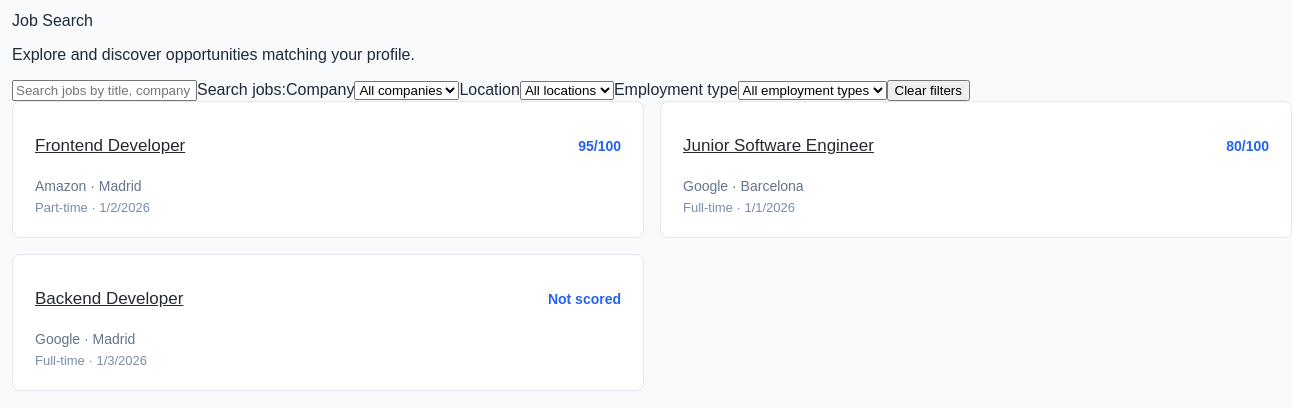
Test: JobSearch › filters jobs by location
The width and height of the screenshot is (1292, 408).
Expected: the link "Junior Software Engineer" is shown, [683,136,874,156]
Select "Barcelona" in the dropdown labelled "Location" at x=567, y=90, box [520,81,614,100]
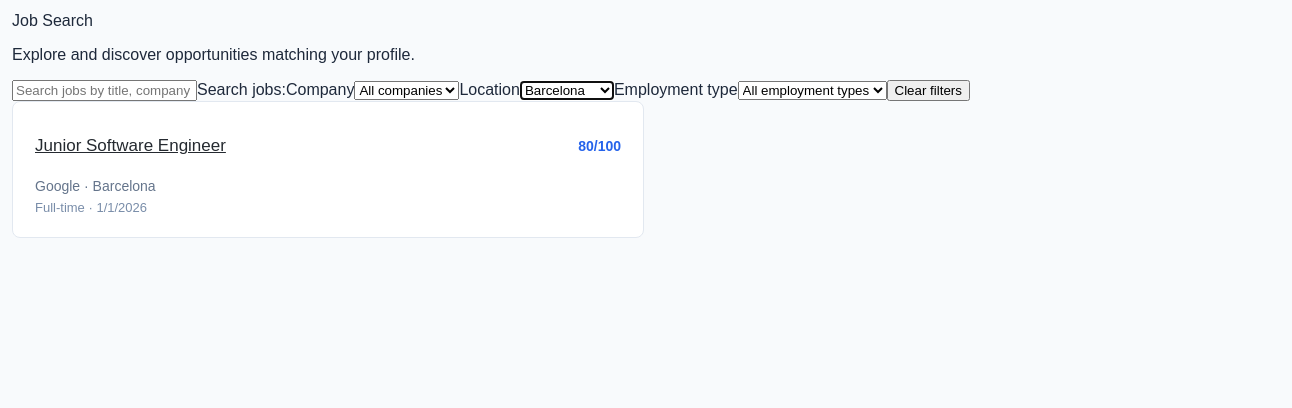
Expected: the link "Junior Software Engineer" is shown, [35,136,226,156]
Now the link "Frontend Developer" is gone
Now the link "Backend Developer" is gone
